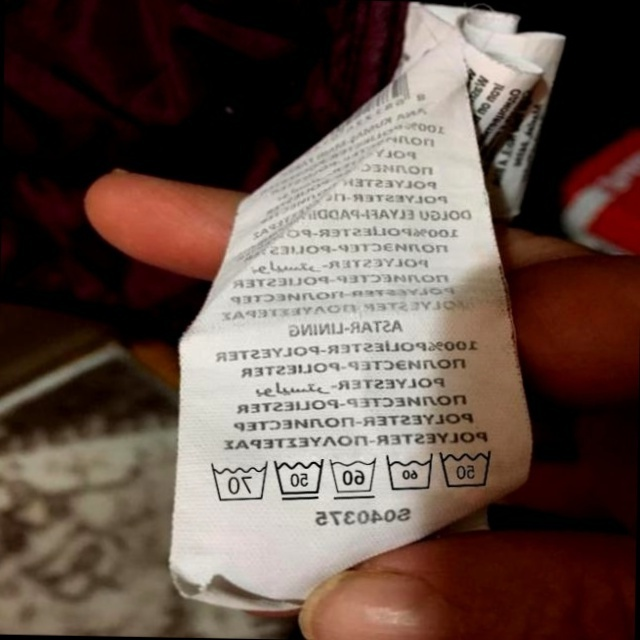50C: (435, 442, 498, 493), (270, 454, 327, 504)
60C: (325, 452, 379, 501), (381, 449, 436, 496)
70C: (204, 458, 269, 504)
